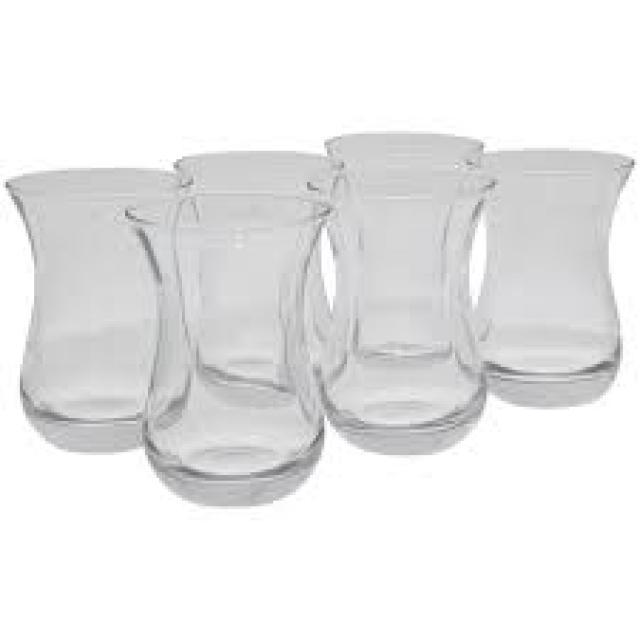Glass: (120, 185, 329, 505), (305, 161, 496, 455), (4, 166, 195, 454), (470, 148, 634, 404)
